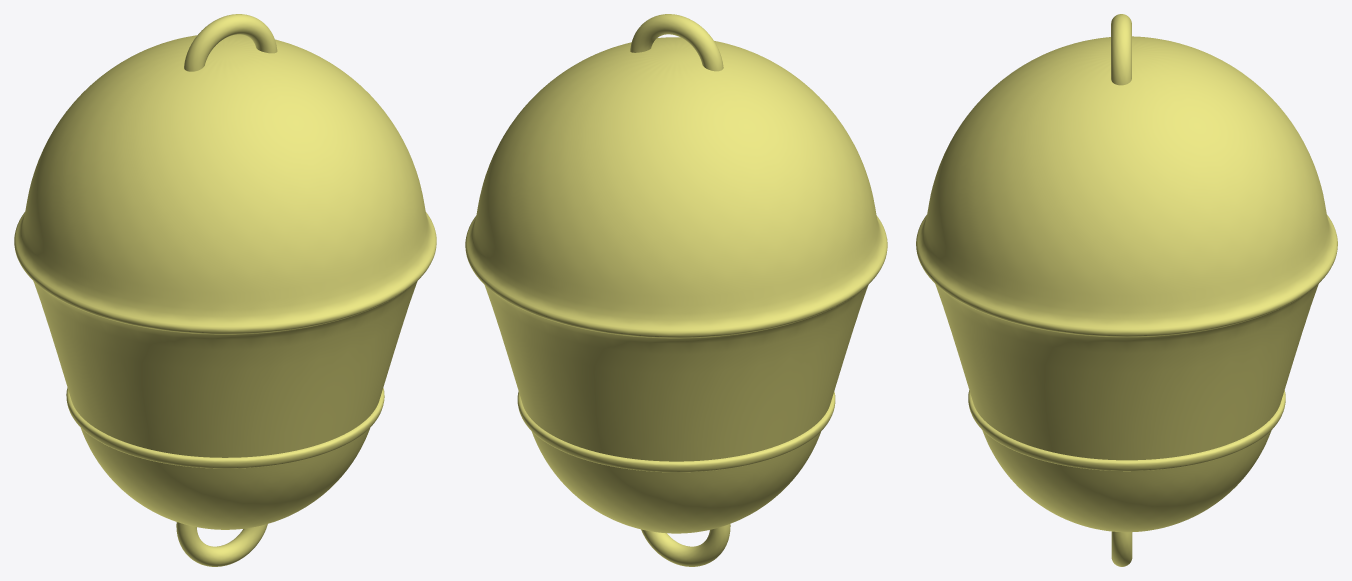
Rendered from bouee.gltf.
3 views of the same model, side by side, from view 1: azimuth 30°, elevation 25°; view 2: azimuth 150°, elevation 25°; view 3: azimuth 270°, elevation 25° (orthographic).
Visible parts, largest first — view 1: Torus.001_0; view 2: Torus.001_0; view 3: Torus.001_0.
Part boxes in pixels (x1,y1,x2,y2): Torus.001_0: (14, 14, 436, 566); Torus.001_0: (465, 14, 887, 566); Torus.001_0: (916, 14, 1337, 566).
Bounding box in the file's own units: 0.8946 × 1.28 × 0.8946.
